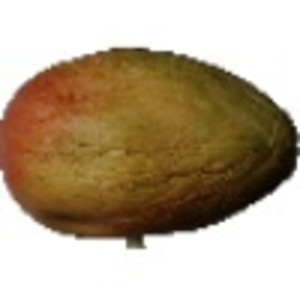mamão: (2, 46, 295, 236)
